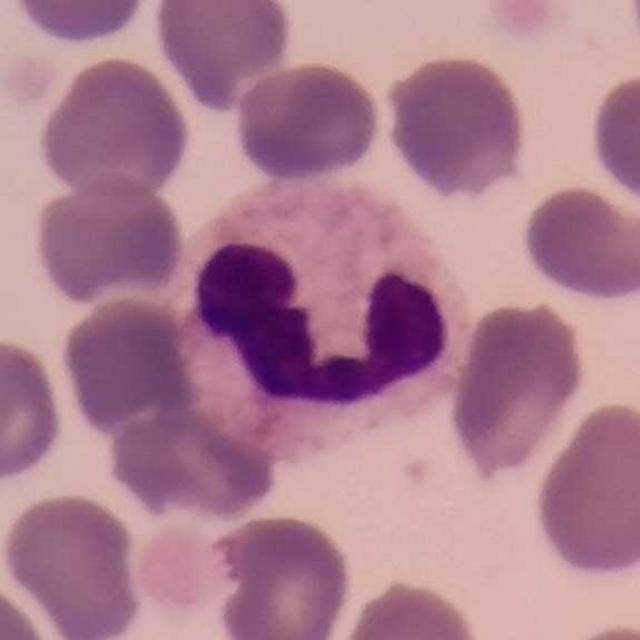Neutrophil: (175, 159, 473, 435)
Platelets: (476, 0, 567, 44)
RBC: (445, 295, 591, 484), (33, 52, 194, 205), (381, 49, 533, 200), (0, 488, 146, 640), (29, 172, 188, 308), (102, 404, 282, 523), (528, 396, 640, 582), (231, 58, 385, 185), (242, 352, 410, 468), (208, 510, 356, 640), (56, 293, 192, 434), (149, 0, 297, 112), (517, 180, 640, 306), (0, 332, 69, 488), (332, 574, 489, 640), (585, 67, 640, 215), (6, 0, 158, 50), (0, 574, 59, 640), (538, 616, 640, 640)
